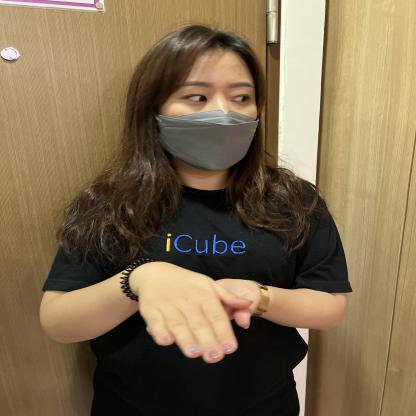Love: (87, 246, 317, 369)
